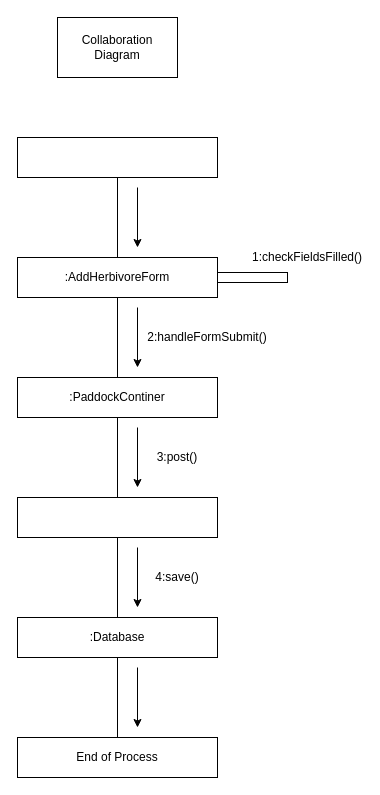
This 380x795 diagram has some shape labels left out. The centre of each missing label's shape, as x and y in pixels:
:Server: point 117,517
Initialization: point 117,157
